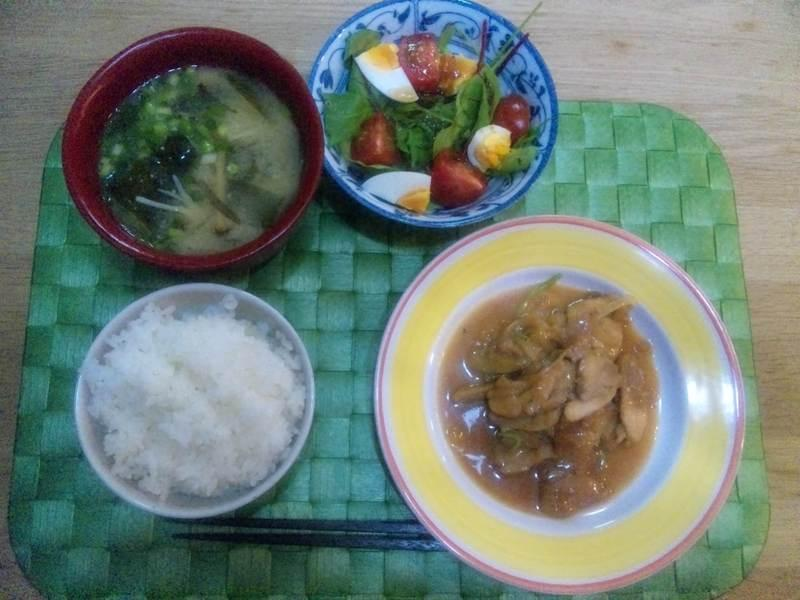rice: (88, 302, 304, 499)
